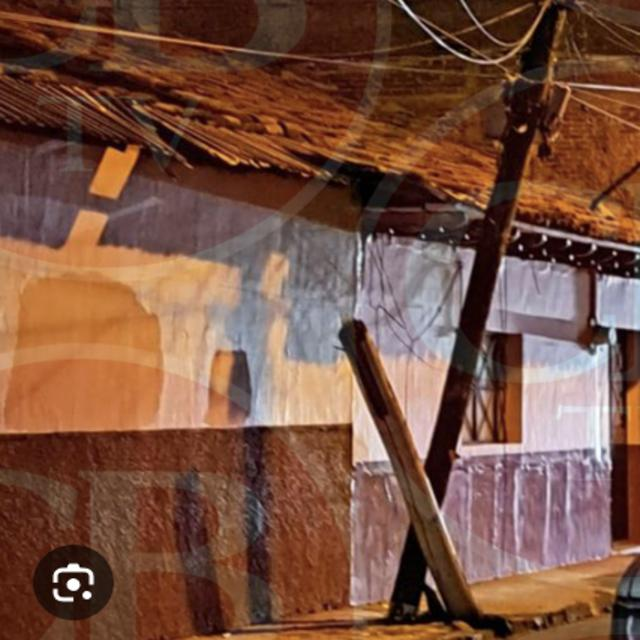Inclined Pole: (381, 0, 571, 625), (335, 319, 485, 617)
